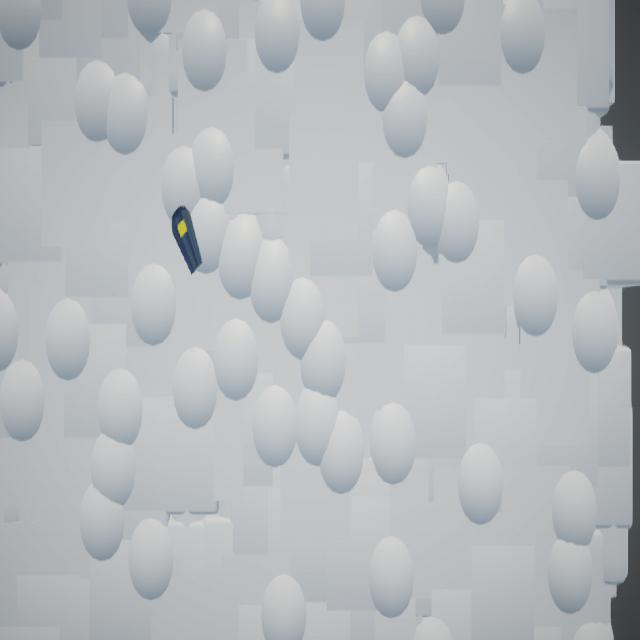handle_folk: (172, 207, 203, 277)
